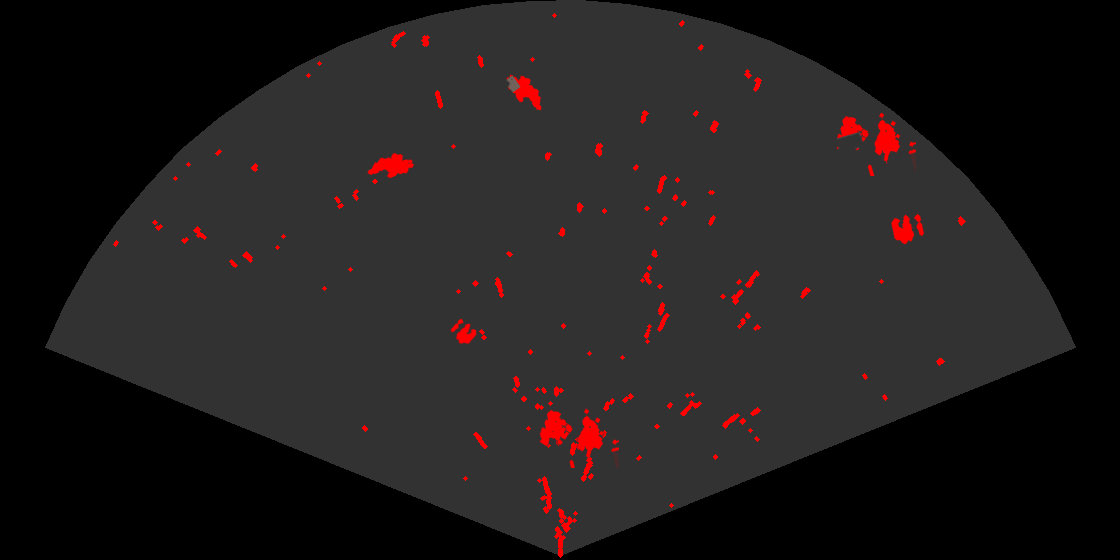AUV: (505, 73, 543, 112), (366, 151, 416, 180)
ball: (890, 212, 926, 246), (449, 317, 478, 346)
cage: (835, 111, 916, 176), (538, 407, 619, 468)
